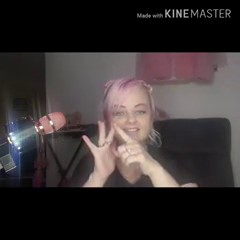I: (79, 117, 157, 180)
